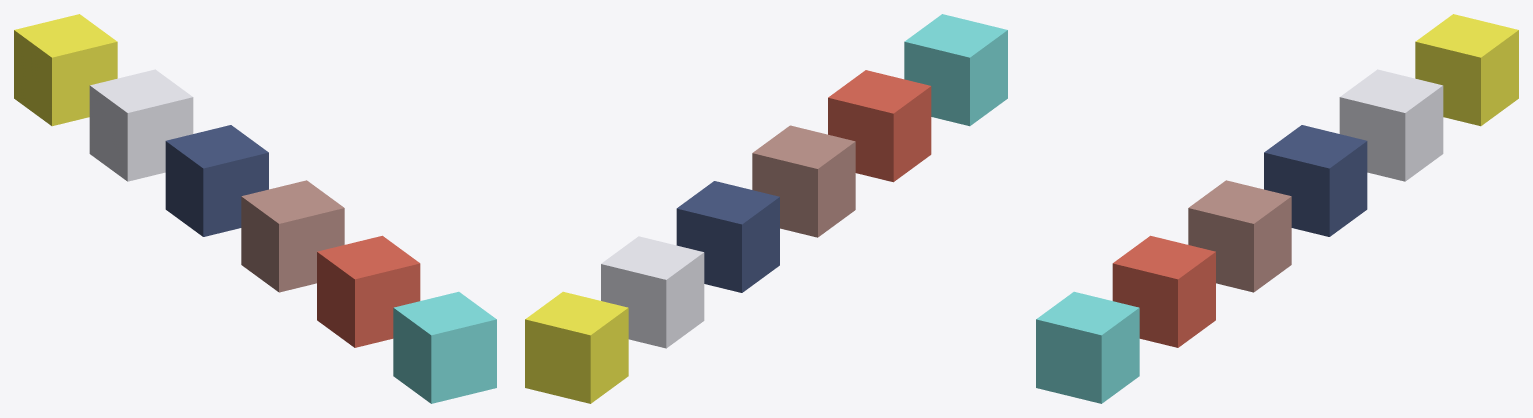
The model's file is materials.glb.
3 views of the same model, side by side, from view 1: azimuth 30°, elevation 25°; view 2: azimuth 150°, elevation 25°; view 3: azimuth 330°, elevation 25° (orthographic).
Visible parts, largest first — view 1: Cube, Cube.004, Cube.001, Cube.003, Cube.002, Cube.005; view 2: Cube.005, Cube, Cube.001, Cube.004, Cube.003, Cube.002; view 3: Cube, Cube.004, Cube.001, Cube.003, Cube.002, Cube.005.
Part boxes in pixels (x1=…): Cube: x1=393, y1=291, x2=496, y2=403; Cube.004: x1=89, y1=69, x2=193, y2=181; Cube.001: x1=317, y1=235, x2=420, y2=347; Cube.003: x1=165, y1=125, x2=268, y2=236; Cube.002: x1=241, y1=180, x2=344, y2=292; Cube.005: x1=14, y1=14, x2=117, y2=126; Cube.005: x1=525, y1=291, x2=628, y2=403; Cube: x1=904, y1=14, x2=1007, y2=126; Cube.001: x1=828, y1=70, x2=931, y2=182; Cube.004: x1=601, y1=236, x2=704, y2=348; Cube.003: x1=676, y1=181, x2=779, y2=292; Cube.002: x1=752, y1=125, x2=855, y2=237; Cube: x1=1036, y1=291, x2=1139, y2=403; Cube.004: x1=1339, y1=69, x2=1443, y2=181; Cube.001: x1=1112, y1=235, x2=1215, y2=347; Cube.003: x1=1264, y1=125, x2=1367, y2=236; Cube.002: x1=1188, y1=180, x2=1291, y2=292; Cube.005: x1=1415, y1=14, x2=1518, y2=126.
Size of the model in its own units: 2 by 2 by 22.04.
